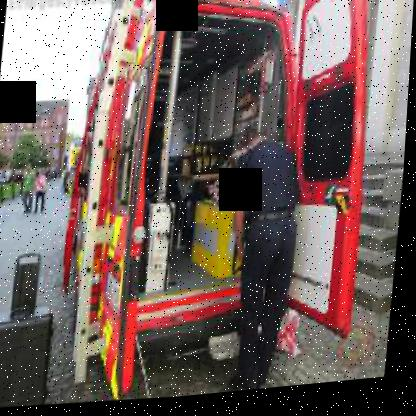emergency: (19, 0, 384, 375)
